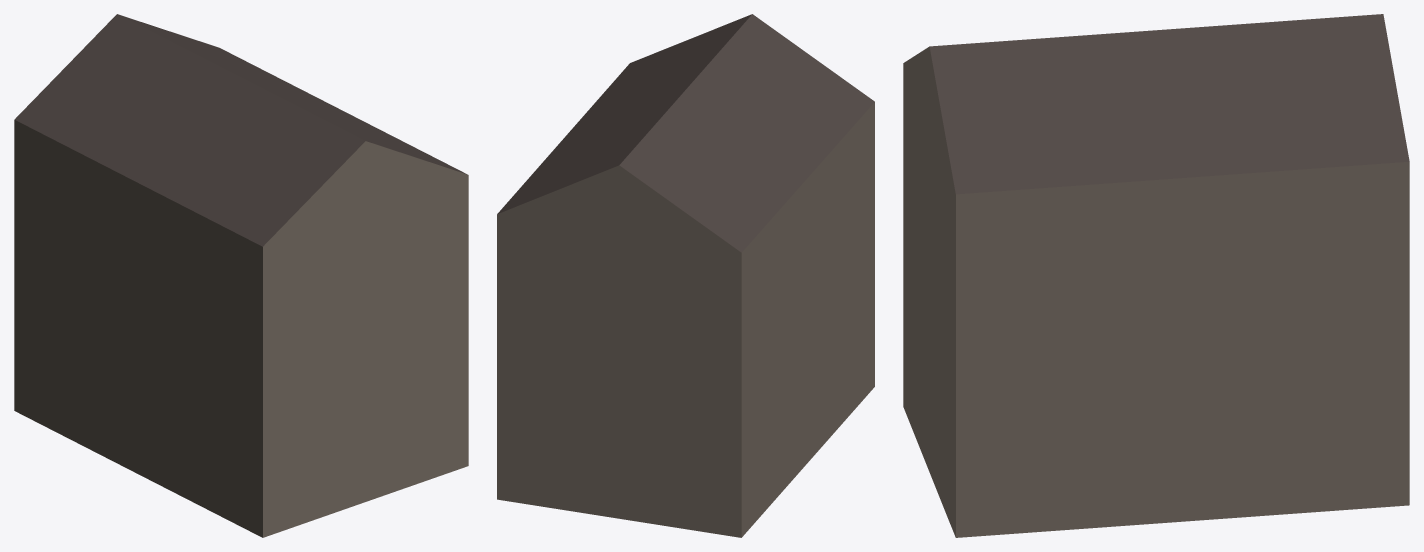
3 renders of one model, left to right at view 1: azimuth 30°, elevation 25°; view 2: azimuth 150°, elevation 25°; view 3: azimuth 270°, elevation 25°, orthographic. The views are drawn at different scales.
Parts seen in each view (by area): view 1: HP-w1424106445; view 2: HP-w1424106445; view 3: HP-w1424106445.
Part boxes in pixels (box(x1,y1,x2,y2)): HP-w1424106445: box(14, 14, 468, 537); HP-w1424106445: box(497, 14, 874, 537); HP-w1424106445: box(903, 14, 1409, 537).
Size of the model in its own units: 6.13 by 7.44 by 8.02.
